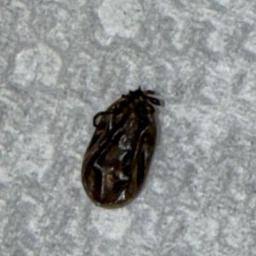Ixodes scapularis: (106, 77, 177, 203)
